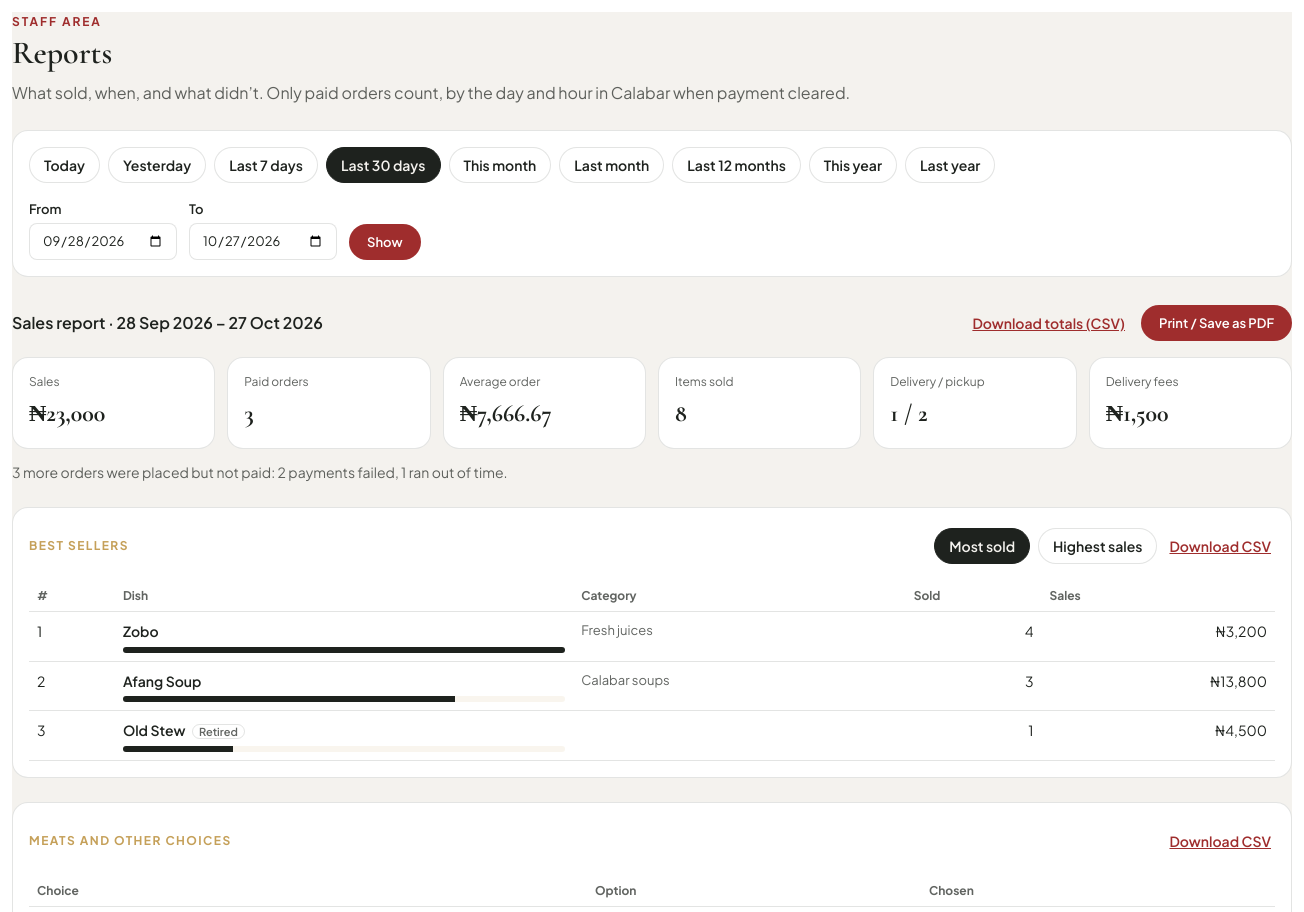
Test: AdminReportsView › switches to another preset period
The width and height of the screenshot is (1304, 912).
Step 1. Click the button with test id "preset-last-month" → click(612, 165), box [559,147,664,183]
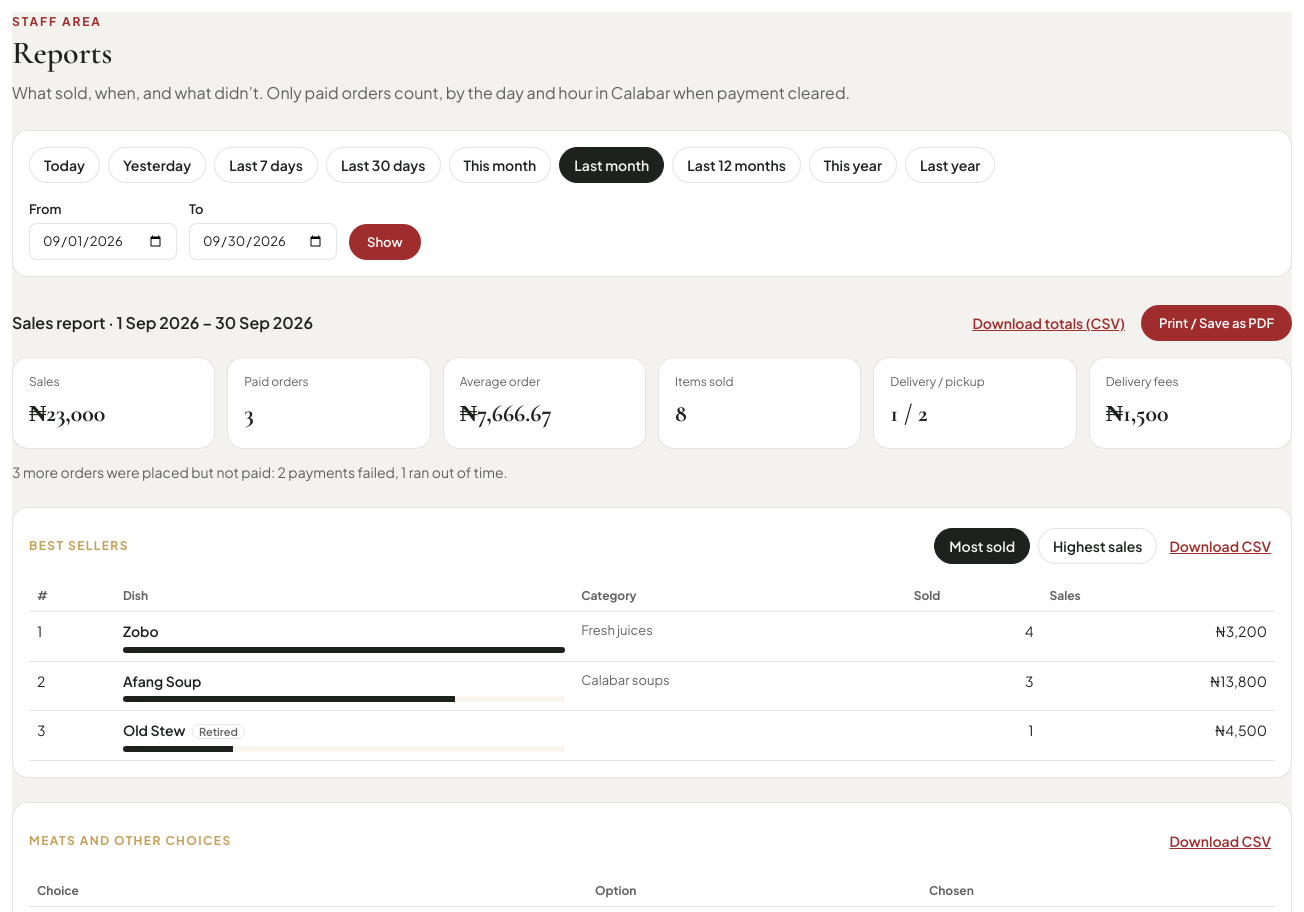
Result: the text "1 Sep 2026 – 30 Sep 2026" is shown at [12,312,313,333]
